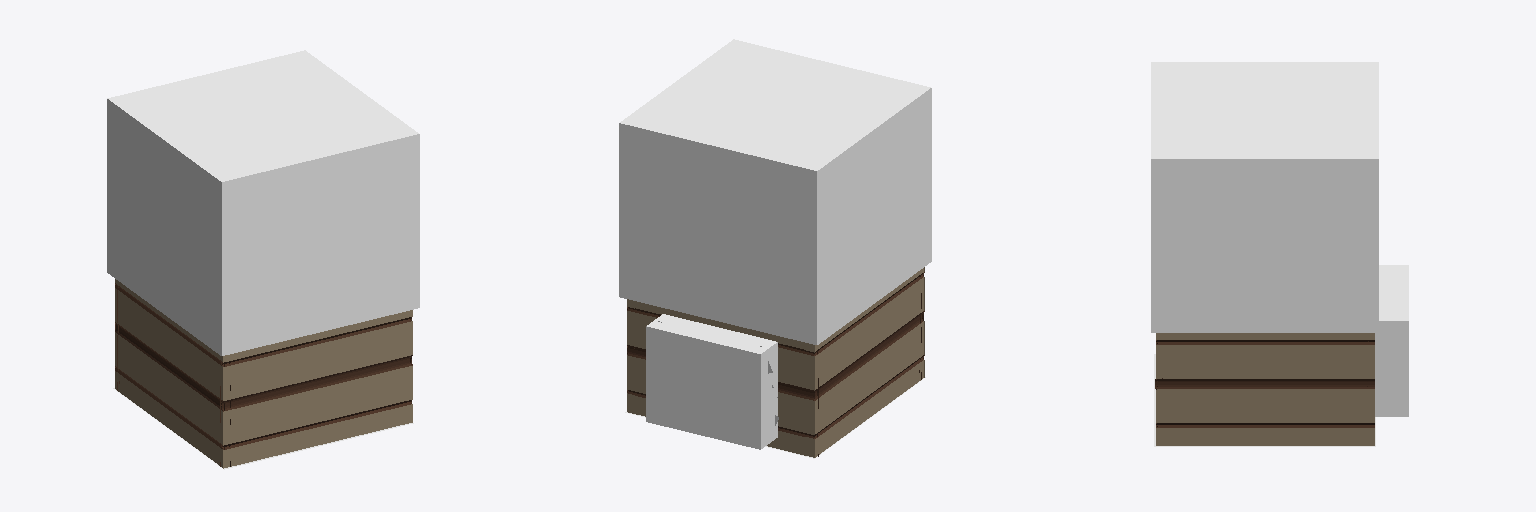
3 views of the same model, side by side, from view 1: azimuth 30°, elevation 25°; view 2: azimuth 150°, elevation 25°; view 3: azimuth 270°, elevation 25° (orthographic).
Parts seen in each view (by area): view 1: vsn_mesh_9_mesh9_mesh_9_mesh9; view 2: vsn_mesh_9_mesh9_mesh_9_mesh9; view 3: vsn_mesh_9_mesh9_mesh_9_mesh9.
Boxes of the visible parts, x1=… form: vsn_mesh_9_mesh9_mesh_9_mesh9: x1=107, y1=50, x2=419, y2=469; vsn_mesh_9_mesh9_mesh_9_mesh9: x1=619, y1=39, x2=931, y2=458; vsn_mesh_9_mesh9_mesh_9_mesh9: x1=1151, y1=62, x2=1408, y2=446.
Size of the model in its own units: 7.49 by 10.5 by 8.47.
12 materials, 1 textured.